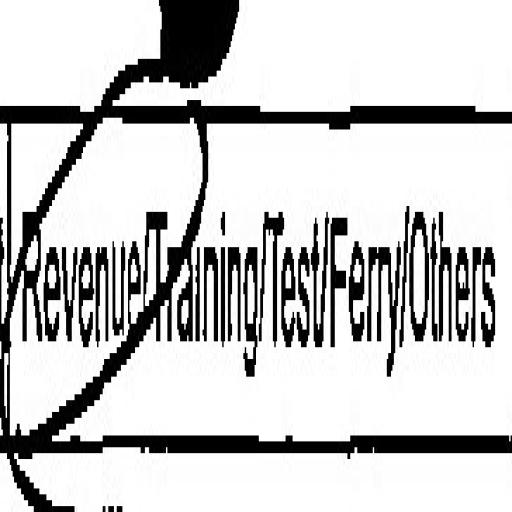check: (5, 0, 147, 512)
